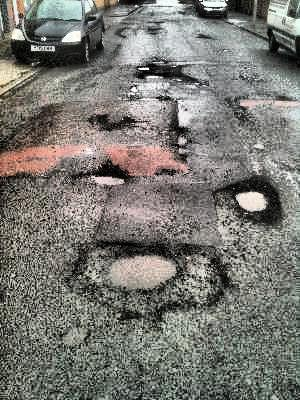pothole: (94, 239, 194, 297), (231, 177, 283, 219), (135, 62, 181, 81), (87, 167, 129, 187)
